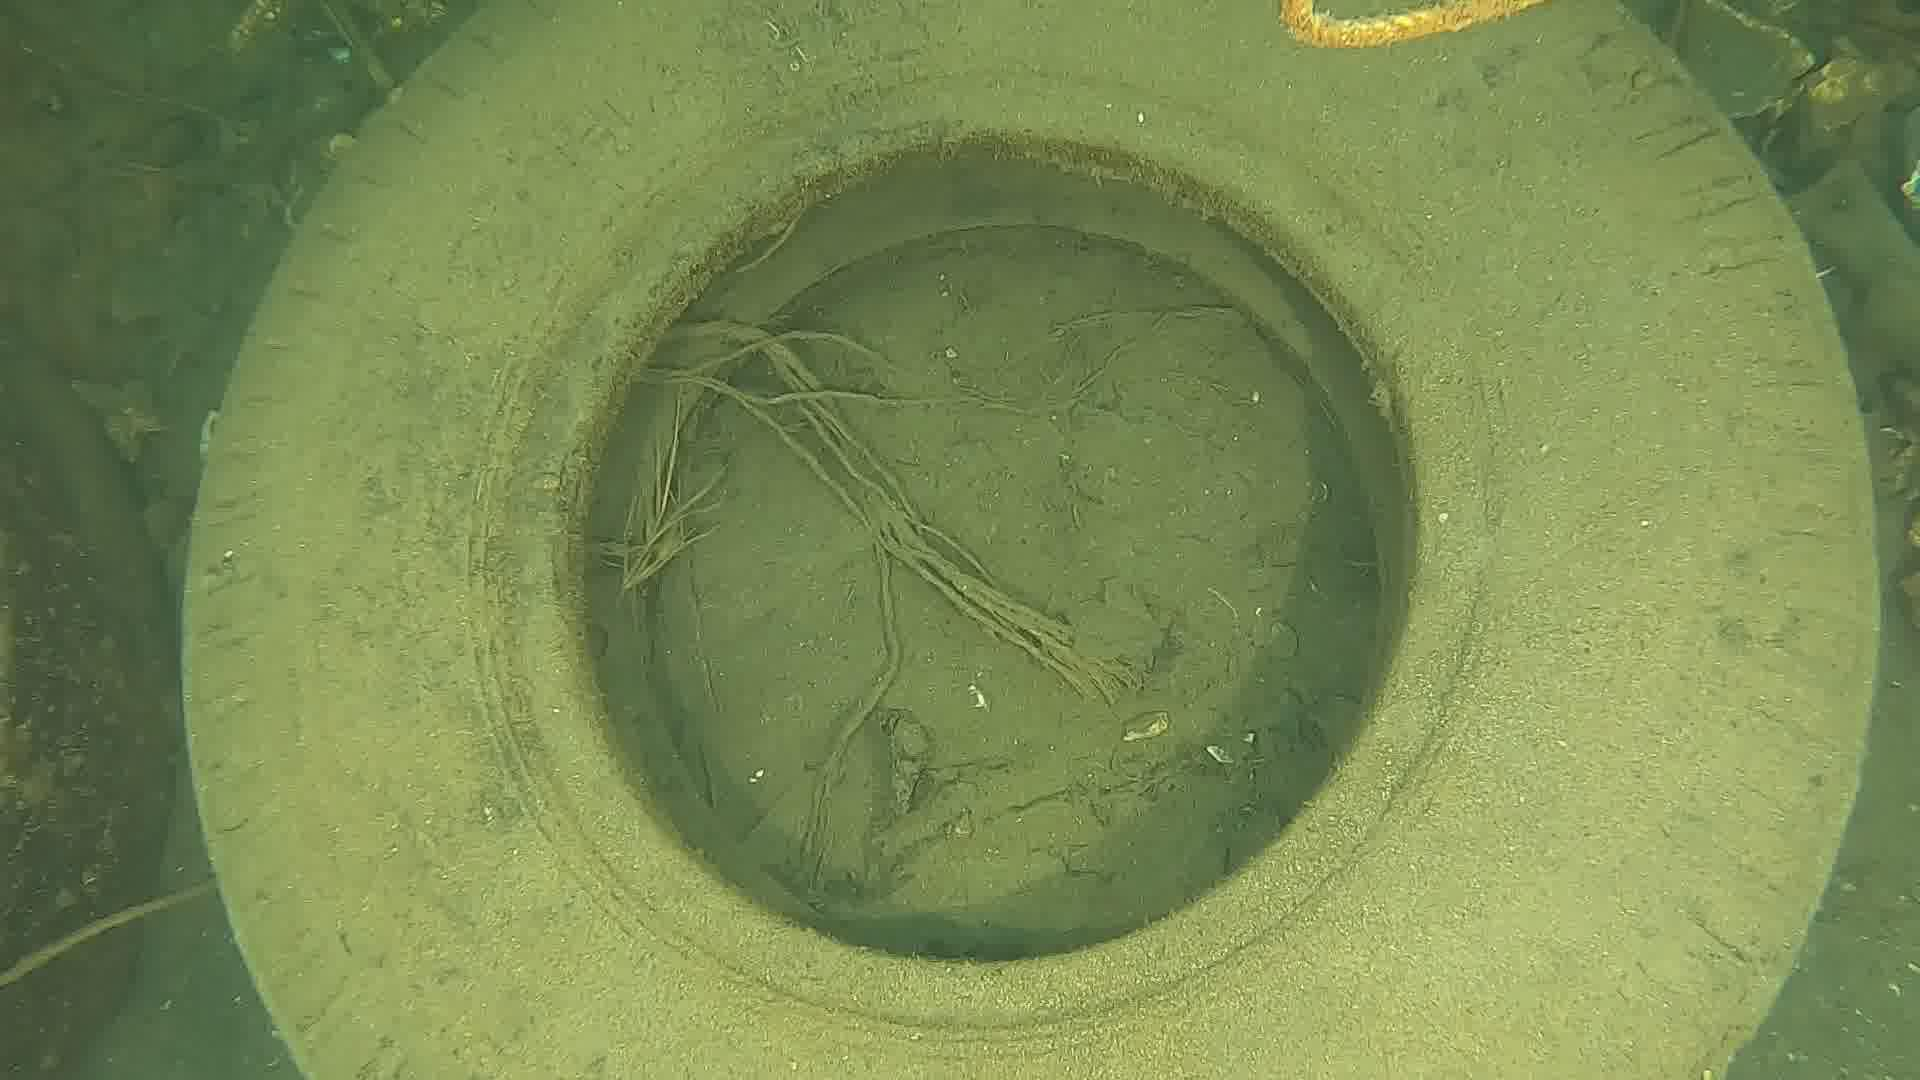tire: (173, 0, 1888, 1080)
